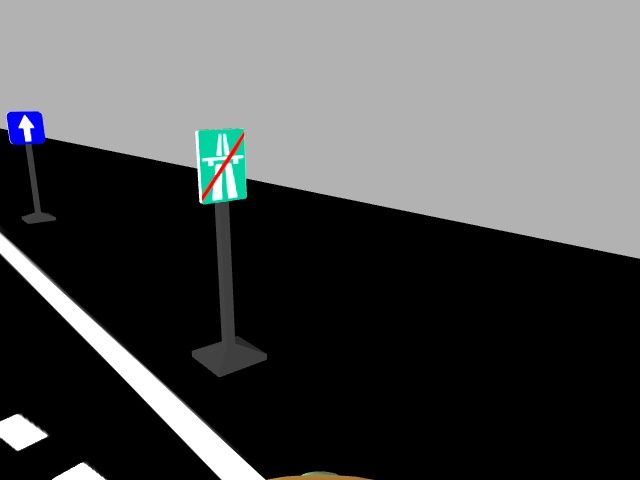HighwayExit: (194, 126, 247, 202)
OneWay: (5, 109, 45, 145)
